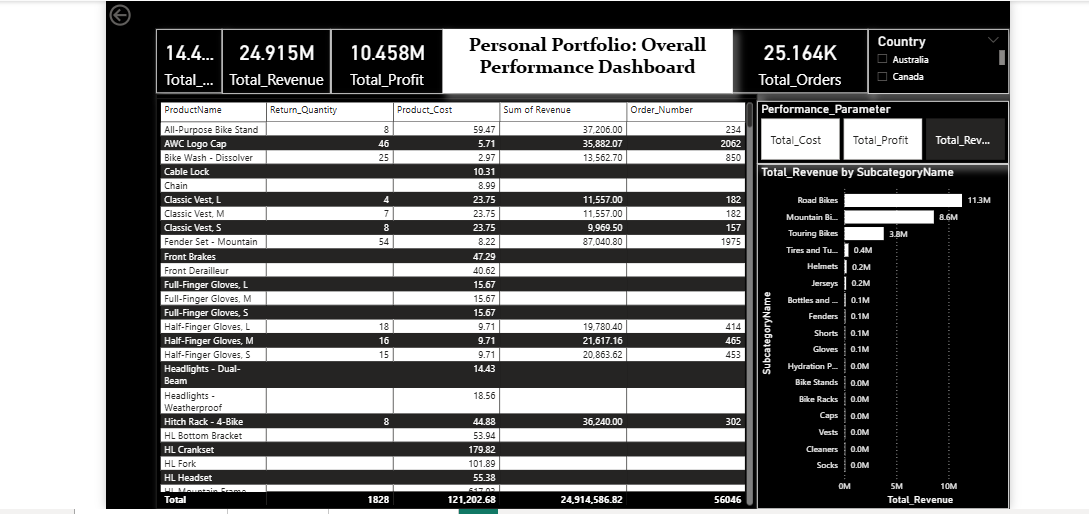

What the dashboard file says about the page in this screenshot:
{"tool":"powerbi","page":{"name":"Product_Lookup","canvas":[1280,720],"ordinal":2},"visuals":[{"type":"card","fields":{"Values":["@Measure_Table.Total_Cost"]},"box":[70.9,39.7,93.5,90.7],"z":0},{"type":"card","fields":{"Values":["@Measure_Table.Total_Revenue"]},"box":[164.4,39.7,154.5,92.1],"z":1000},{"type":"card","fields":{"Values":["@Measure_Table.Total_Profit"]},"box":[318.9,39.7,158.7,92.1],"z":2000},{"type":"card","fields":{"Values":["Count(All Sales.OrderNumber)"]},"box":[887.2,39.7,192.8,90.7],"z":3000},{"type":"slicer","fields":{"Values":["Territory Lookup.Country"]},"box":[1080,39.7,199.8,92.1],"z":4000},{"type":"actionButton","box":[0,0,100,40],"z":5000},{"type":"tableEx","fields":{"Values":["Product Lookup.ProductName","Sum(Returns Data.ReturnQuantity)","Sum(Product Lookup.ProductCost)","Sum(All Sales.Revenue)","All Sales.OrderNumber"]},"box":[70.9,131.8,851.8,588.2],"z":6000},{"type":"clusteredBarChart","fields":{"Y":["@Measure_Table.Total_Revenue"],"Category":["Product Subcategories Lookup.SubcategoryName"]},"box":[922.7,231,357.2,489],"z":7000},{"type":"advancedSlicerVisual","fields":{"Values":["Index_Parameter.Index_Parameter"]},"box":[922.7,141.7,357.2,89.3],"z":8000},{"type":"textbox","box":[477.6,39.7,409.6,90.7],"z":9000},{"type":"shape","box":[8.5,151.7,49.6,69.4],"z":10000},{"type":"shape","box":[8.5,374.2,49.6,69.4],"z":11000},{"type":"shape","box":[8.5,260.8,49.6,69.4],"z":12000}]}

Visuals, with their boxes on the page's 1280x720 design canvas (x1, y1, x2, y2). These are canvas units, not pixel positions in the 1089x514 screenshot, which may show the page scaled, cropped or inside an application window:
card - @Measure_Table.Total_Cost: 71/40/164/130
card - @Measure_Table.Total_Revenue: 164/40/319/132
card - @Measure_Table.Total_Profit: 319/40/478/132
card - Count(All Sales.OrderNumber): 887/40/1080/130
slicer - Territory Lookup.Country: 1080/40/1280/132
actionButton: 0/0/100/40
tableEx - Product Lookup.ProductName x Sum(Returns Data.ReturnQuantity): 71/132/923/720
clusteredBarChart - @Measure_Table.Total_Revenue x Product Subcategories Lookup.SubcategoryName: 923/231/1280/720
advancedSlicerVisual - Index_Parameter.Index_Parameter: 923/142/1280/231
textbox: 478/40/887/130
shape: 8/152/58/221
shape: 8/374/58/444
shape: 8/261/58/330
